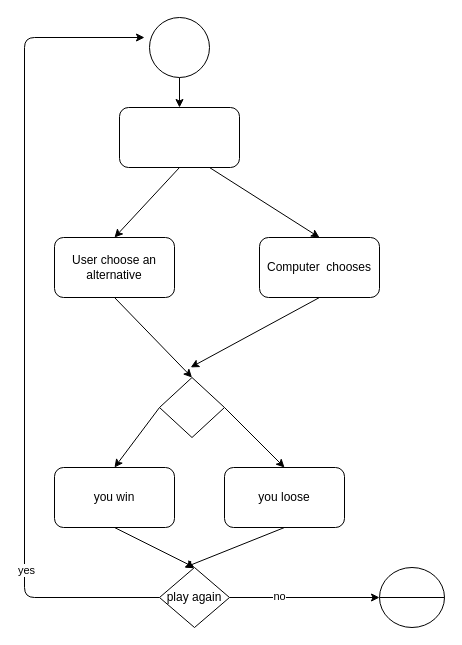
Some shapes in this 462 by 645 pixel diagram are drawn without their labels. The centre of each missing label's shape, as x and y in pixels:
Instructions load: pixel 179 137
shaking animation: pixel 191 407
START: pixel 179 47
